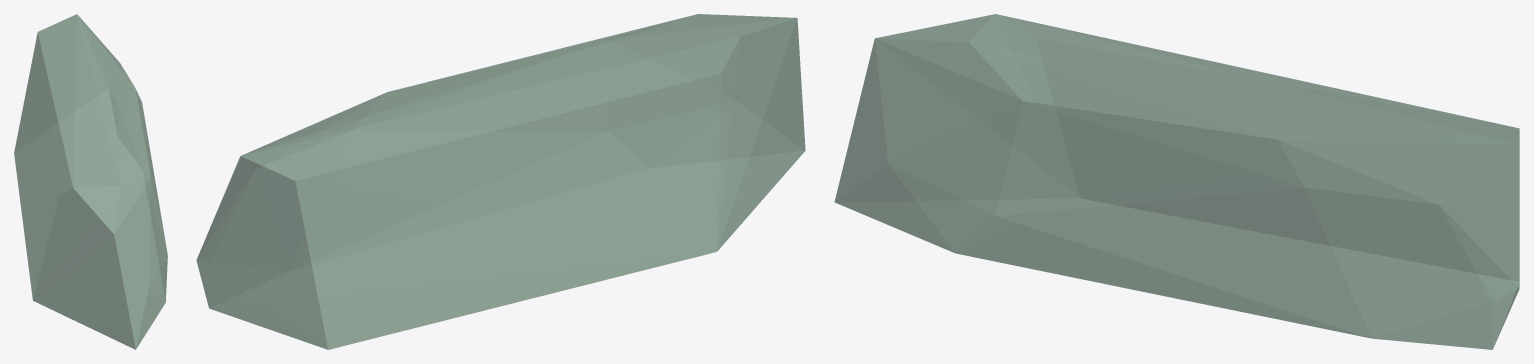
3 renders of one model, left to right at view 1: azimuth 30°, elevation 25°; view 2: azimuth 150°, elevation 25°; view 3: azimuth 270°, elevation 25°, orthographic. The views are drawn at different scales.
Visible parts, largest first — view 1: Shape_IndexedFaceSet.017_Shape_IndexedFaceSet.3355; view 2: Shape_IndexedFaceSet.017_Shape_IndexedFaceSet.3355; view 3: Shape_IndexedFaceSet.017_Shape_IndexedFaceSet.3355.
Boxes of the visible parts, <box> form: Shape_IndexedFaceSet.017_Shape_IndexedFaceSet.3355: <box>14,14,167,349</box>; Shape_IndexedFaceSet.017_Shape_IndexedFaceSet.3355: <box>196,14,805,349</box>; Shape_IndexedFaceSet.017_Shape_IndexedFaceSet.3355: <box>834,14,1519,349</box>.
Size of the model in its own units: 0.2362 by 0.1312 by 0.4226.
